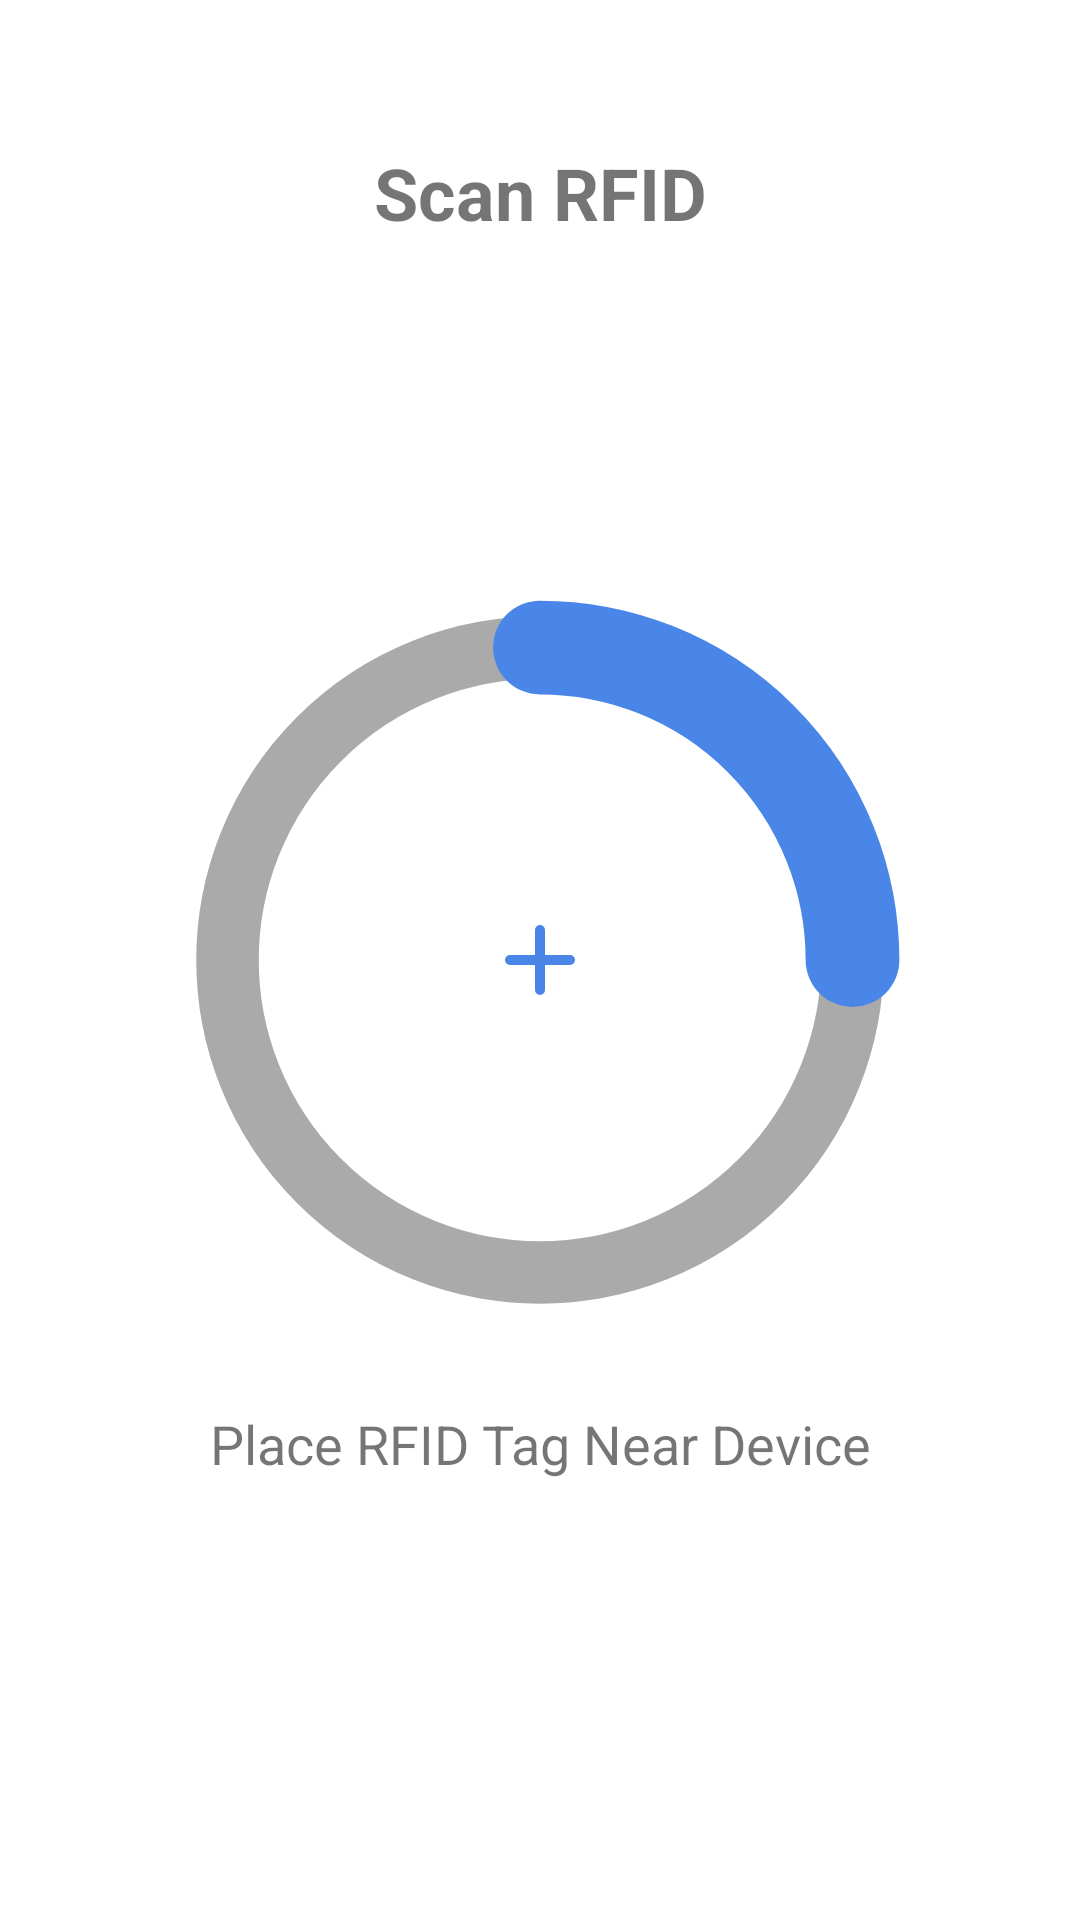

Named icons in this screenshot (1080×1920) and their bounding boxes, (x1, y1, x2, y2):
scan cross: (505, 925, 575, 995)
